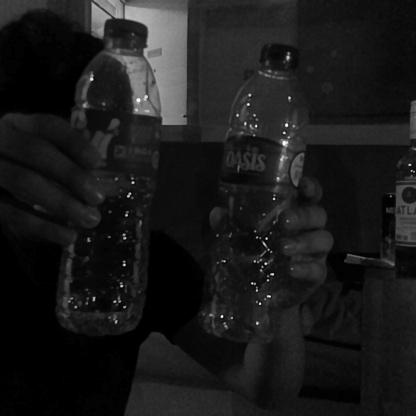plastic_bottles: (60, 14, 160, 328), (212, 37, 304, 354)
